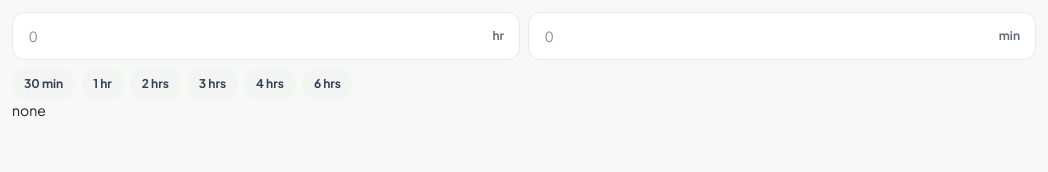
Test: DurationInput › turns hours and minutes into total minutes
Type "2" into the field named "Hours" at (266, 36), box [12, 12, 520, 60]
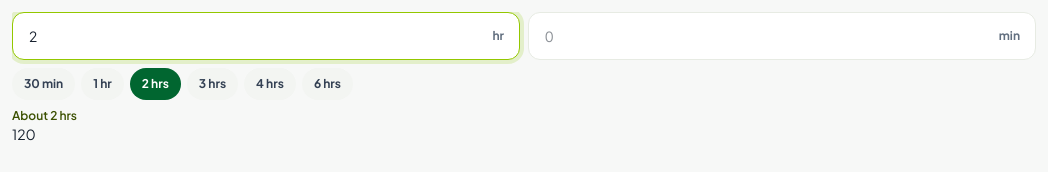
Type "15" into the field named "Minutes" at (782, 36), box [528, 12, 1036, 60]
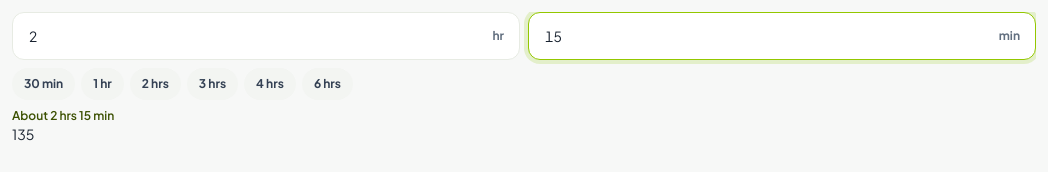
Expected: the text named "Total" reads "135", [12, 125, 34, 143]
Expected: the text "About 2 hrs 15 min" is shown, [12, 108, 114, 123]
